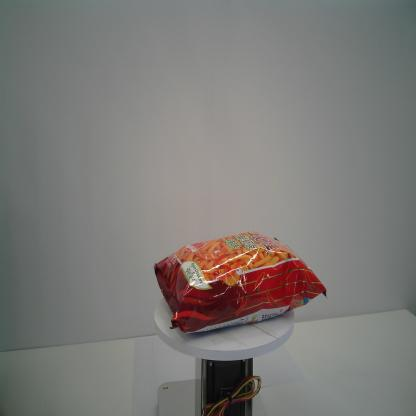Puffed Food: (153, 230, 327, 336)
